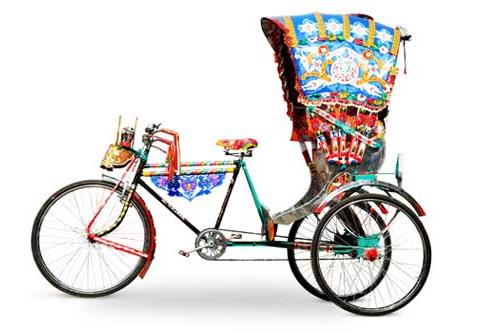Rickshaw: (29, 8, 437, 314)
